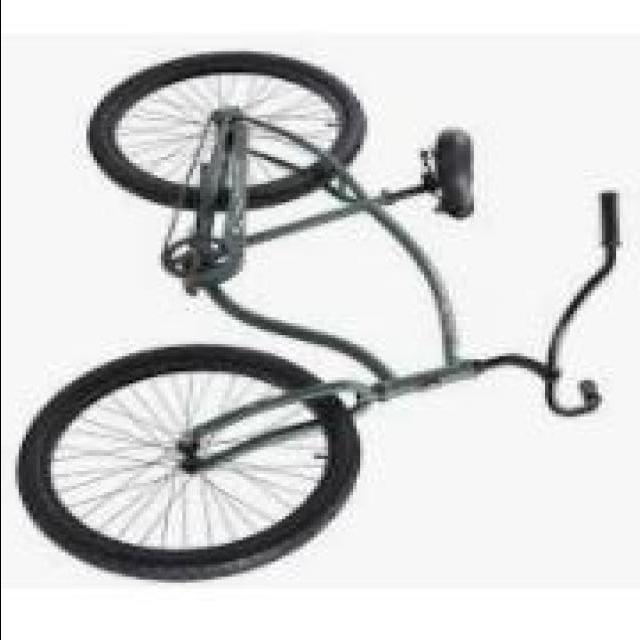bicycle: (41, 43, 613, 587)
